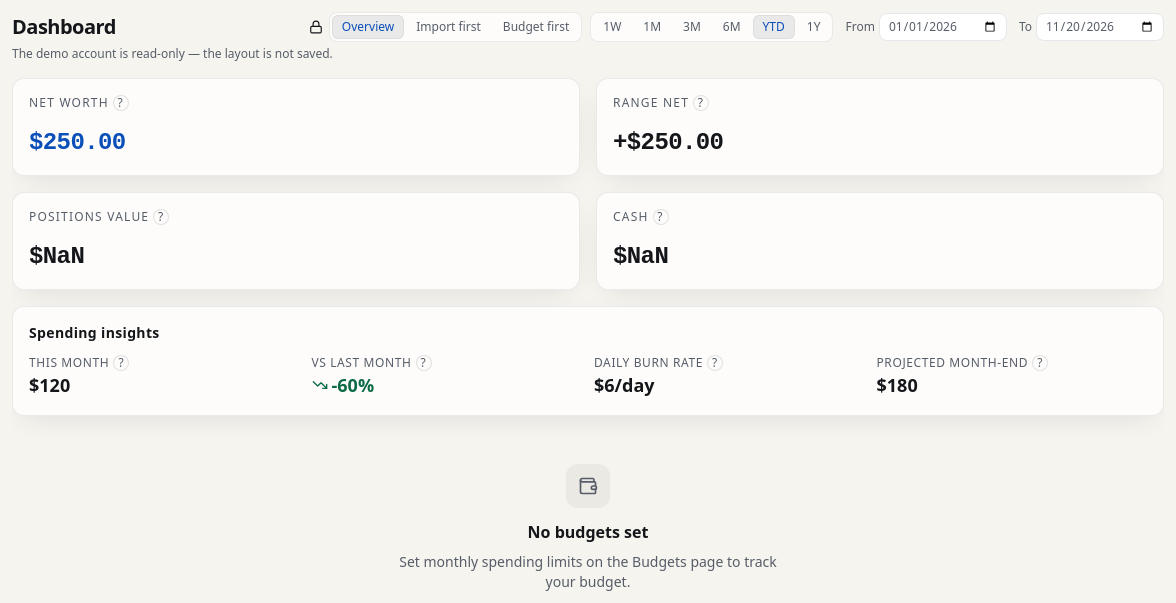
Test: docs/47 §4 — the Dashboard layout preset picker (F-2 item 2) › demo: a refused save is ONE demo-refusal + ONE toast.info, never role=alert — and the layout rolls back
Expected: the text "Positions value" is shown, [29, 208, 149, 225]
Expected: the heading "Spending insights" is shown, [29, 323, 160, 343]
Click the tab "Budget first".
click(536, 27)  # box [493, 15, 579, 39]
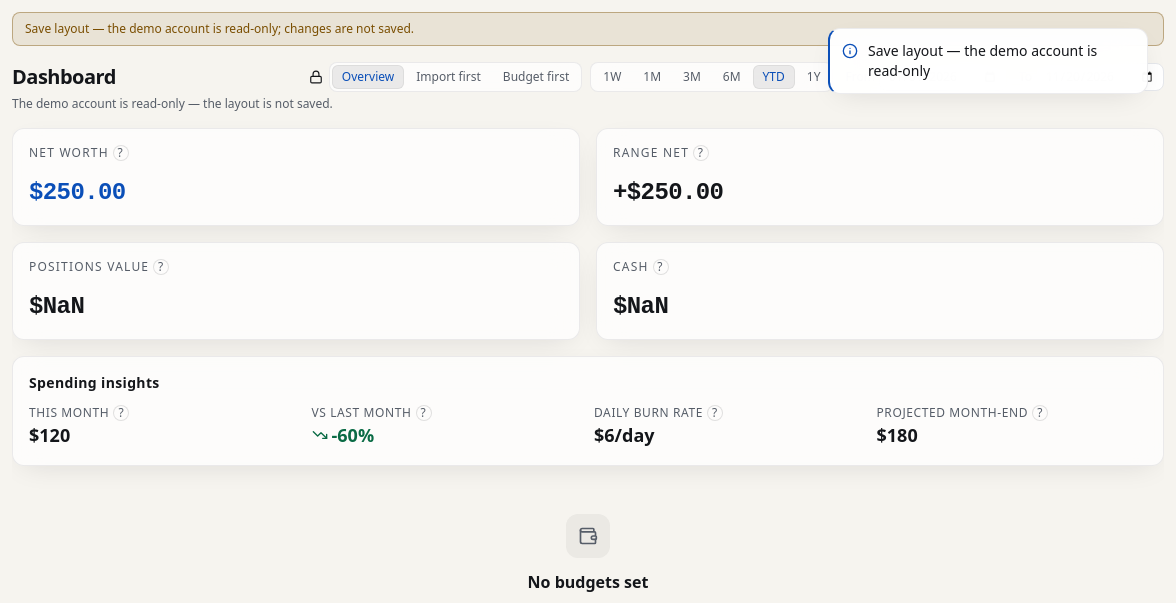
Expected: the number of messages with test id "demo-refusal" is 1, [12, 12, 1164, 46]
Expected: the text "Save layout — the demo account is read-only" is shown, [868, 41, 1135, 81]
